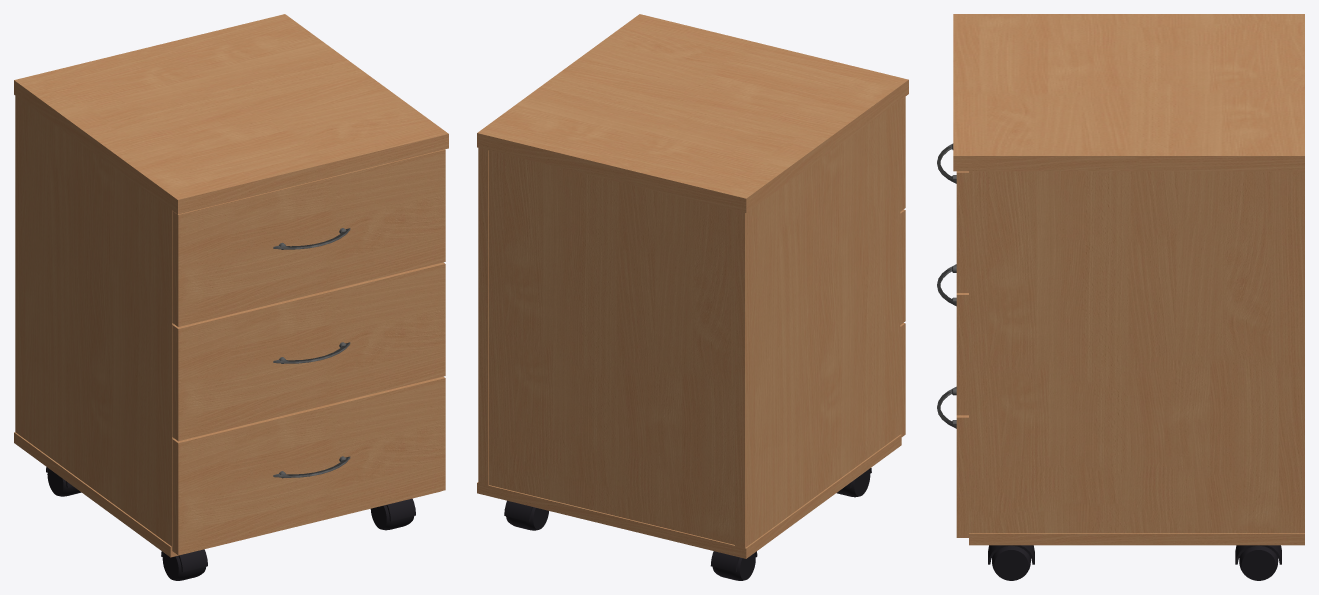
Rendered from RT3_Mod.glb.
The picture shows the model from 3 angles, left to right: view 1: azimuth 30°, elevation 25°; view 2: azimuth 150°, elevation 25°; view 3: azimuth 270°, elevation 25°; orthographic projection. The views are drawn at different scales.
Parts seen in each view (by area): view 1: RT3mod; view 2: RT3mod; view 3: RT3mod.
Part boxes in pixels (x1=…): RT3mod: x1=14, y1=14, x2=448, y2=580; RT3mod: x1=477, y1=14, x2=908, y2=580; RT3mod: x1=937, y1=14, x2=1304, y2=580.
Bounding box in the file's own units: 0.43 × 0.615 × 0.471.
7 materials, 7 textured.
